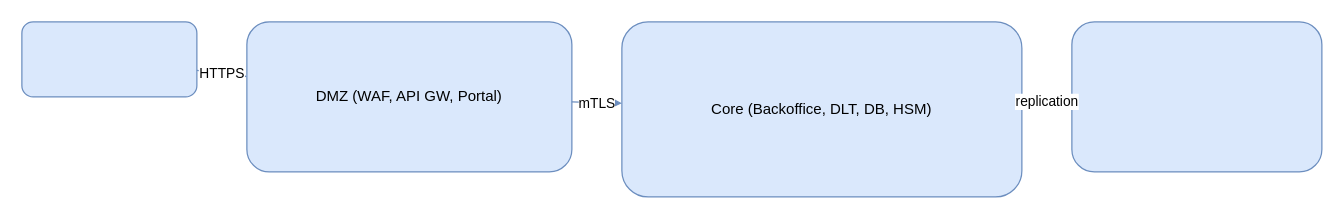
Image size: 1344x219. Some labels were removed from this diagram. Here are the shapes that lost their labels. From the top down, the centre of each, then its label:
point (109, 59): Internet
point (1196, 96): DR Site
